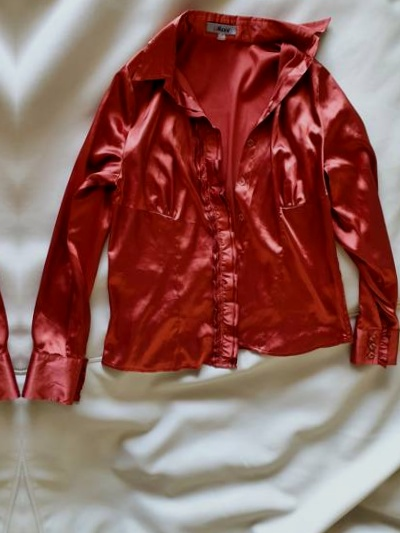Blazer: (27, 0, 400, 405), (0, 0, 9, 411)
